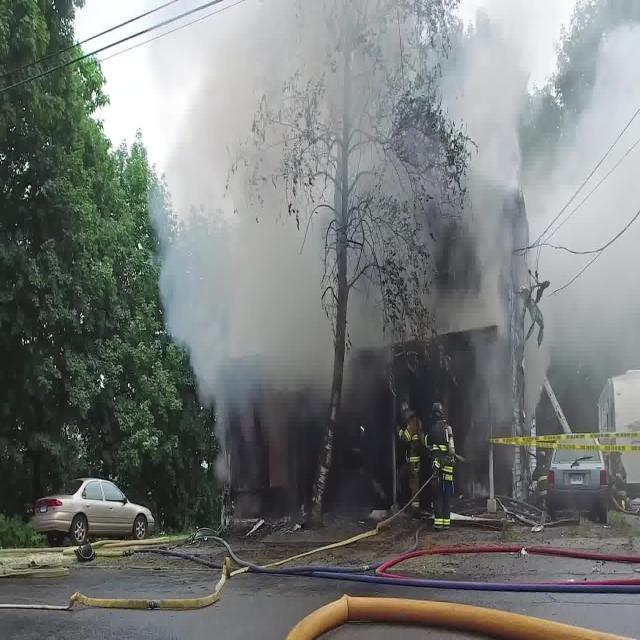smoke: (474, 120, 638, 387), (188, 80, 310, 393), (223, 8, 324, 76)
